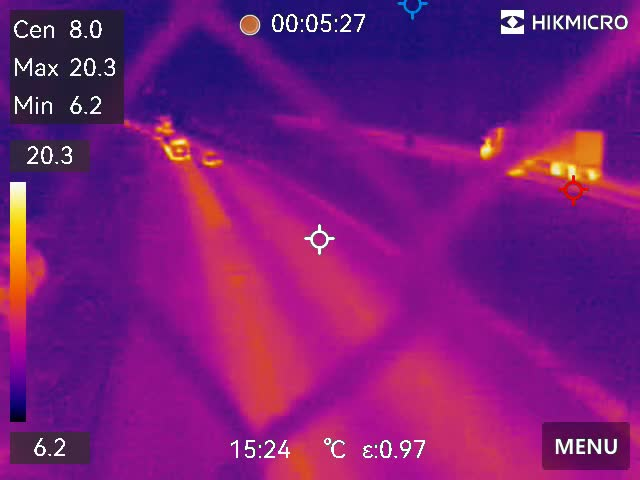heavyTruck: (482, 126, 606, 181)
